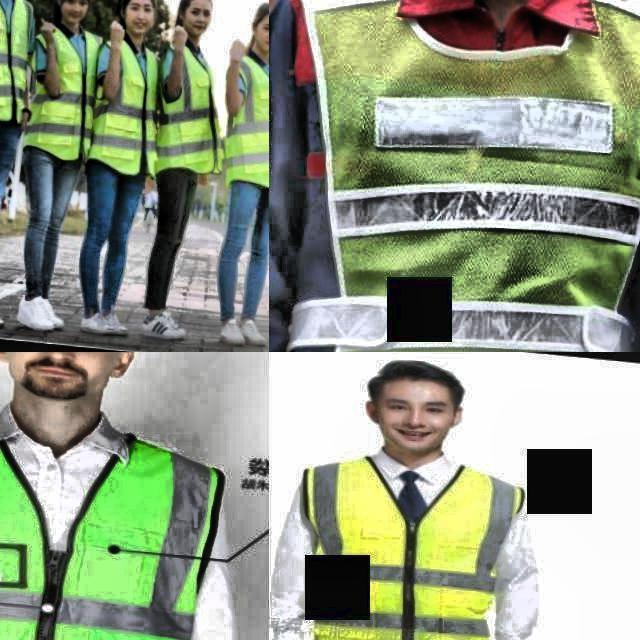safety_jacket: (295, 0, 640, 352), (0, 417, 235, 640), (302, 463, 524, 640), (27, 34, 94, 154), (96, 48, 158, 175), (162, 50, 218, 172), (223, 65, 269, 181), (0, 0, 27, 117)
